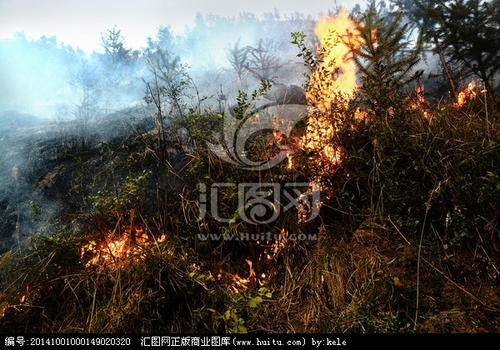fire: (81, 228, 296, 297), (307, 10, 382, 167), (400, 73, 484, 116)
